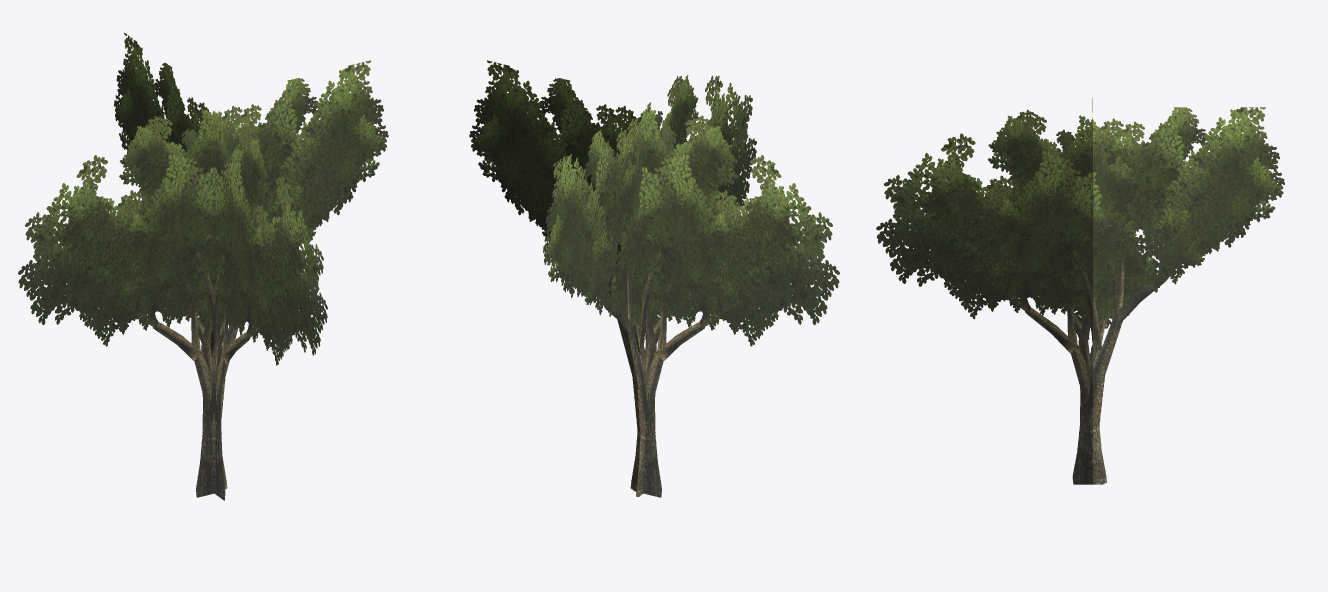
The model's file is Field_Elm_Fan_0.obj.
3 renders of one model, left to right at view 1: azimuth 30°, elevation 25°; view 2: azimuth 150°, elevation 25°; view 3: azimuth 270°, elevation 25°, orthographic. The views are drawn at different scales.
Parts seen in each view (by area): view 1: CreateFan; view 2: CreateFan; view 3: CreateFan.
Boxes of the visible parts, x1,y1,x2,y2 form: CreateFan: (18, 32, 388, 500); CreateFan: (469, 60, 839, 497); CreateFan: (876, 98, 1284, 484).
Size of the model in its own units: 24.38 by 23 by 24.38.
1 material, 1 textured.
